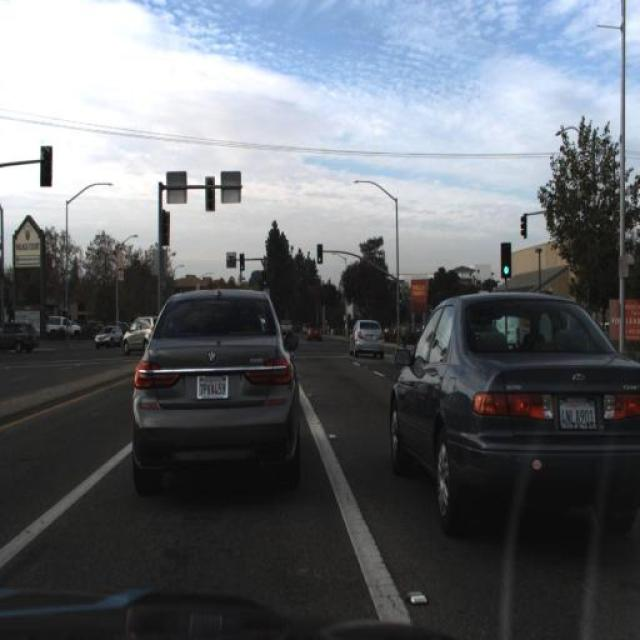car: (389, 291, 639, 539), (142, 297, 299, 463), (346, 314, 390, 362), (122, 314, 160, 362), (116, 317, 162, 348), (0, 320, 40, 355), (97, 323, 124, 346), (306, 319, 324, 346), (278, 310, 294, 340), (279, 316, 296, 343)
trafficLight-Green: (38, 144, 51, 188), (203, 176, 216, 210), (159, 212, 171, 248), (516, 214, 528, 241)
trafficLight-GreenLeft: (498, 244, 509, 278), (314, 242, 327, 267), (258, 272, 268, 292), (237, 254, 245, 274)
